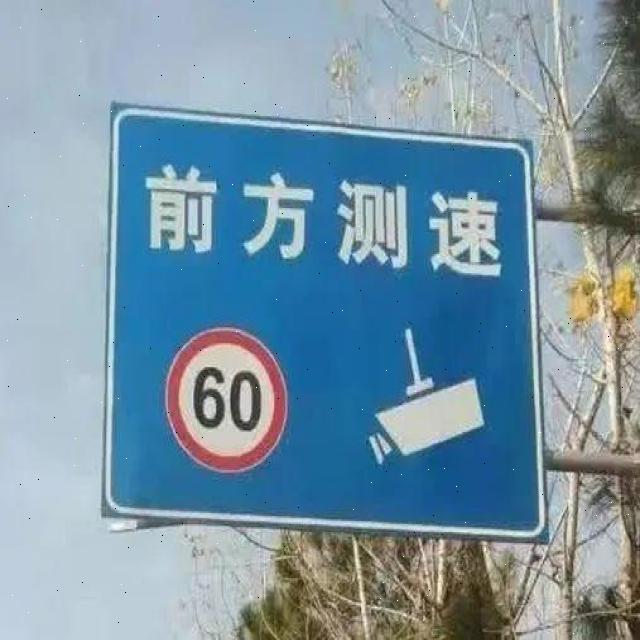speed limit 60: (164, 327, 289, 476)
